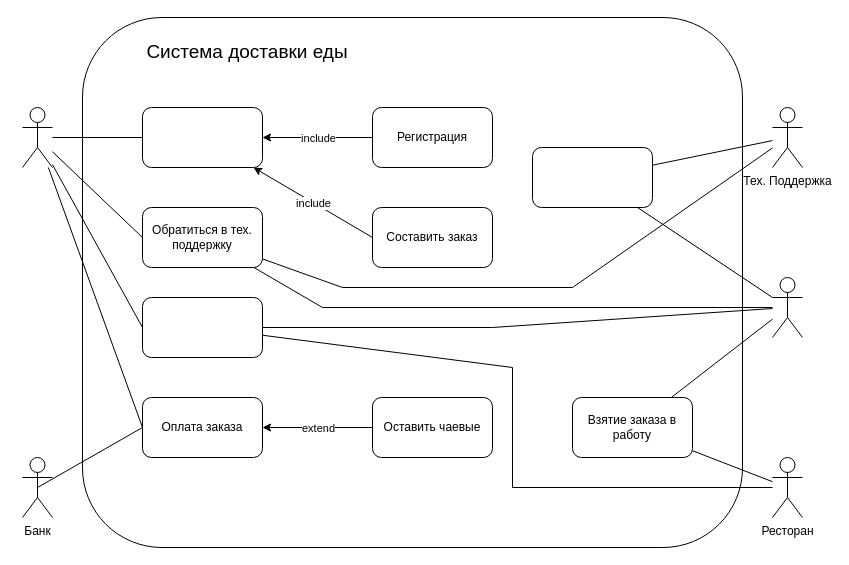
Some shapes in this 849 by 565 pixel diagram are drawn without their labels. The shapes that lost their labels are listed below. From the top down, each one's centre as x and y in pixels, then its label:
the point at 37,137: Клиент
the point at 202,137: Оформить заказ
the point at 592,177: Назначение курьера на заказ
the point at 202,327: Отслеживать заказ
the point at 787,307: Курьер
